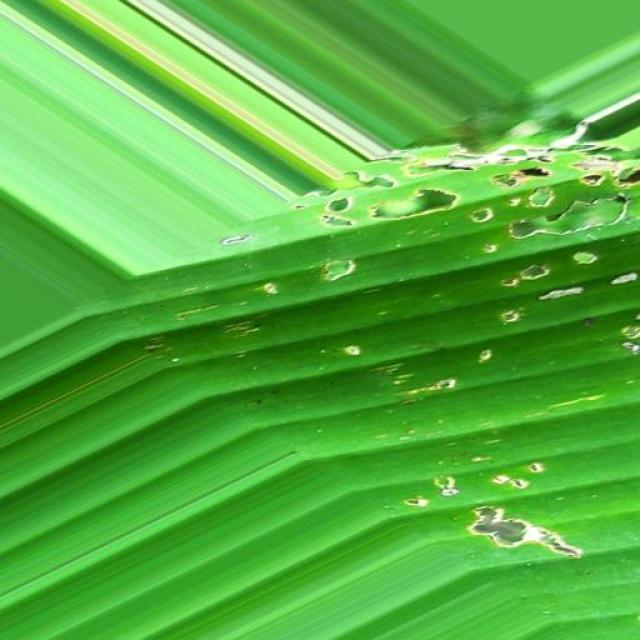Black_rot: (184, 119, 640, 602)
